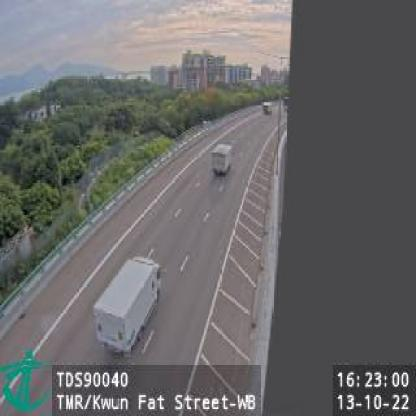Truck: (92, 258, 162, 360), (209, 144, 234, 176)
